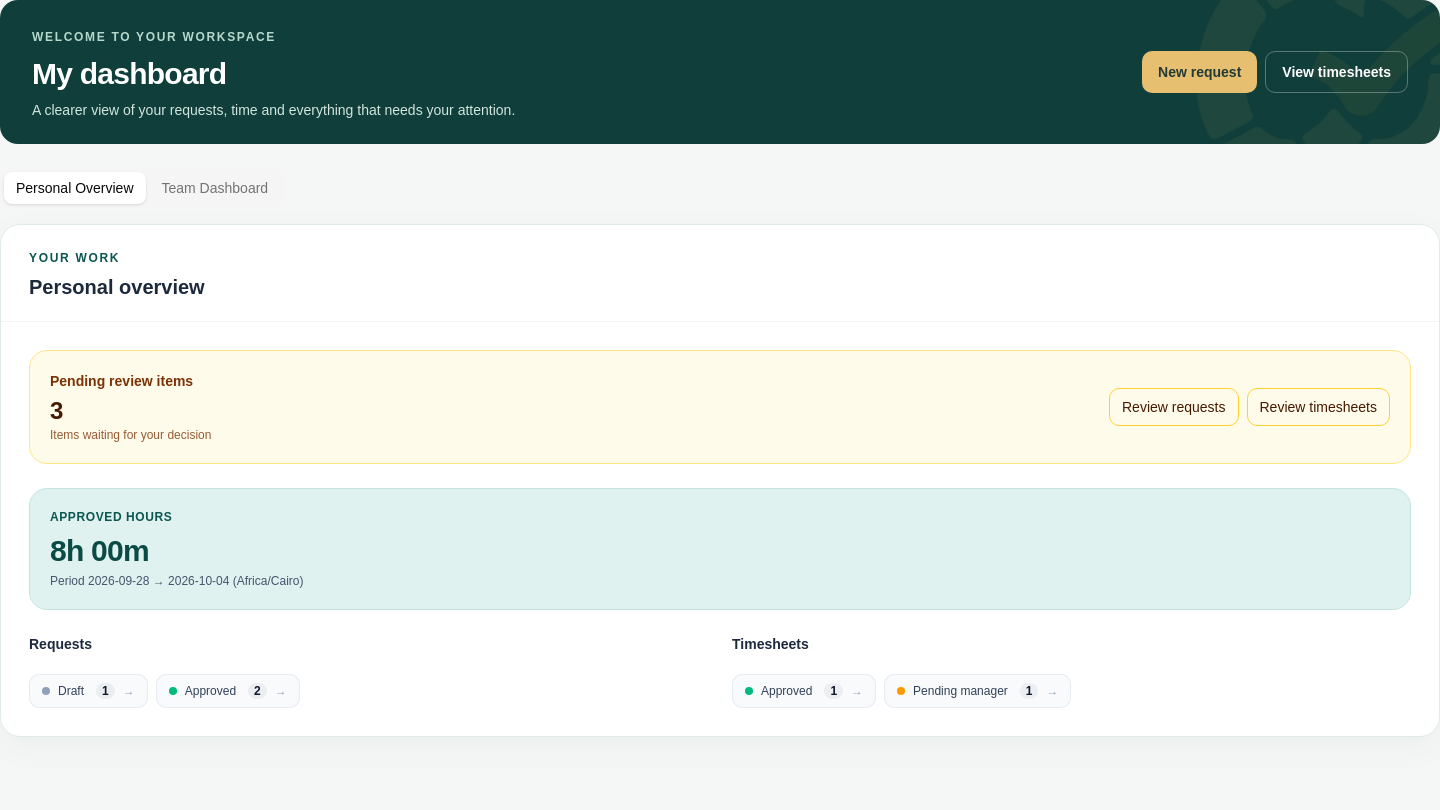
it: DashboardPage › separates the manager's work from team oversight
Expected: the heading "Pending review items" is shown, left=50, top=371, right=211, bottom=391
Expected: the text "3" is shown, left=50, top=397, right=63, bottom=424
Click the tab "Team dashboard" at (215, 188), box left=150, top=172, right=280, bottom=204
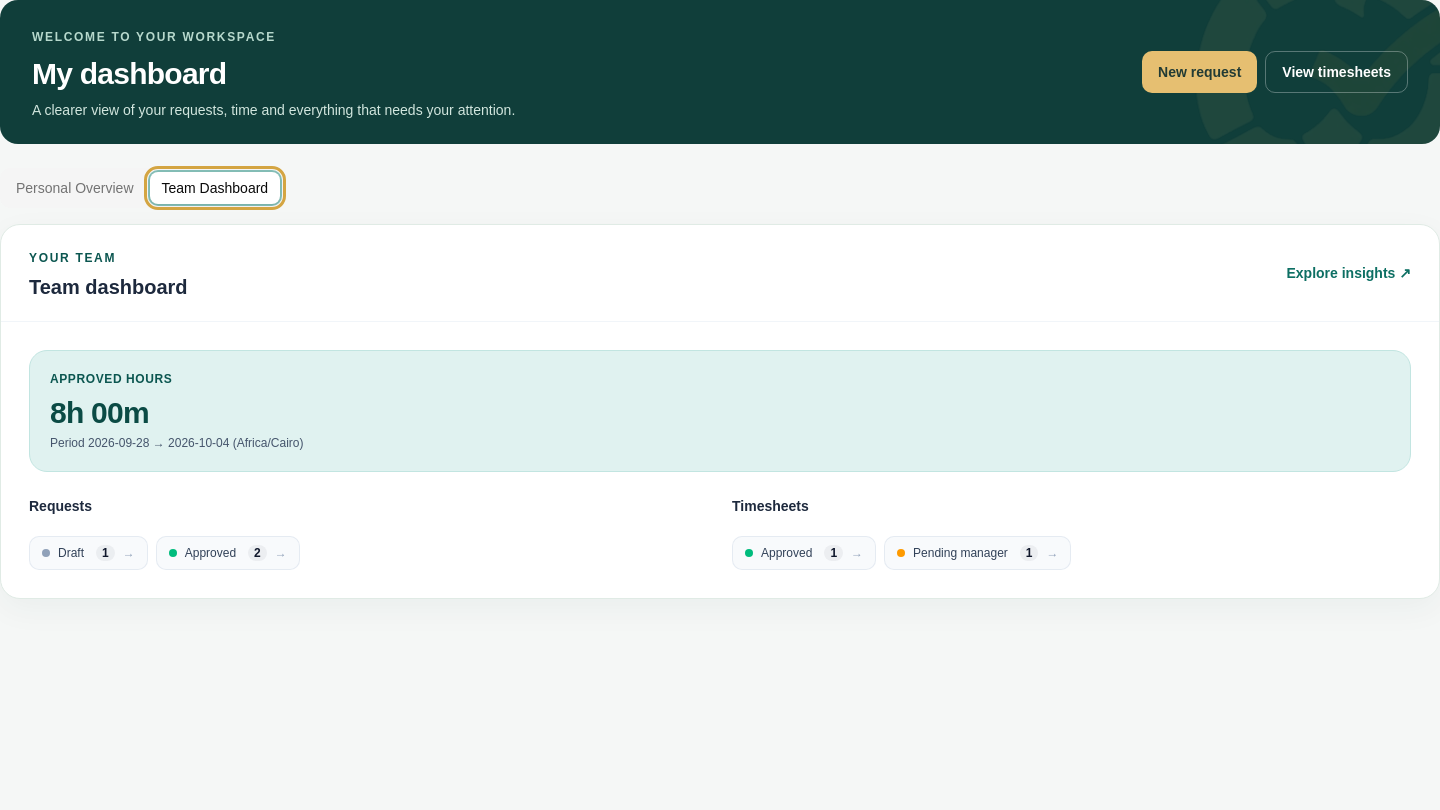
Expected: the element "Team dashboard" is shown, left=0, top=224, right=1439, bottom=599
Expected: the heading "Pending review items" is gone
